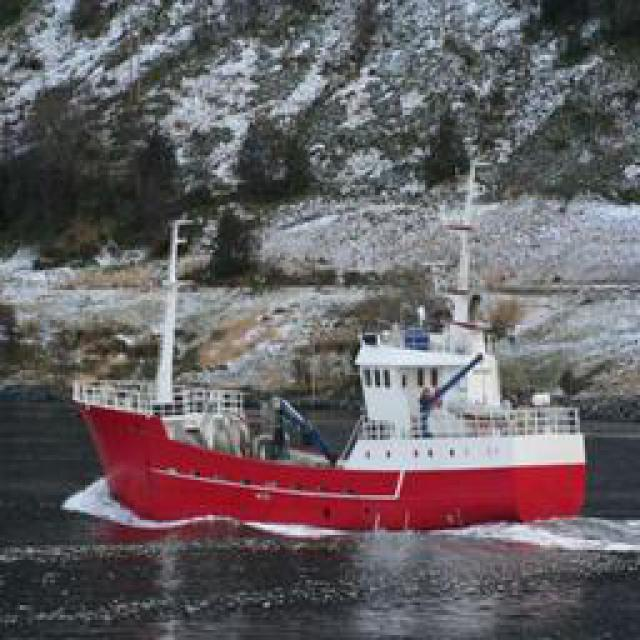Ship: (73, 321, 601, 541)
